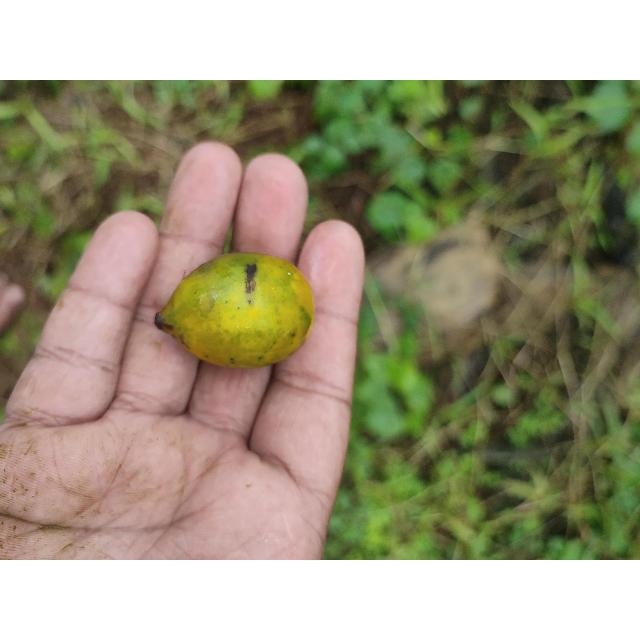damaged: (154, 252, 316, 370)
